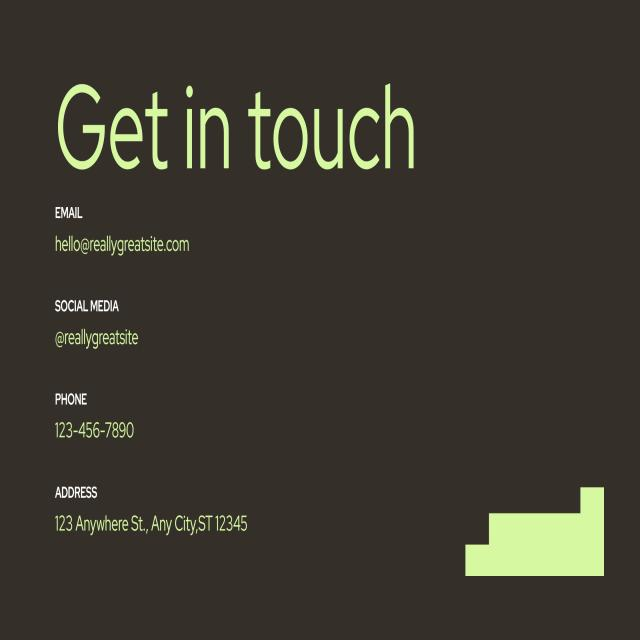text: (44, 193, 268, 554)
title: (49, 55, 427, 195)
